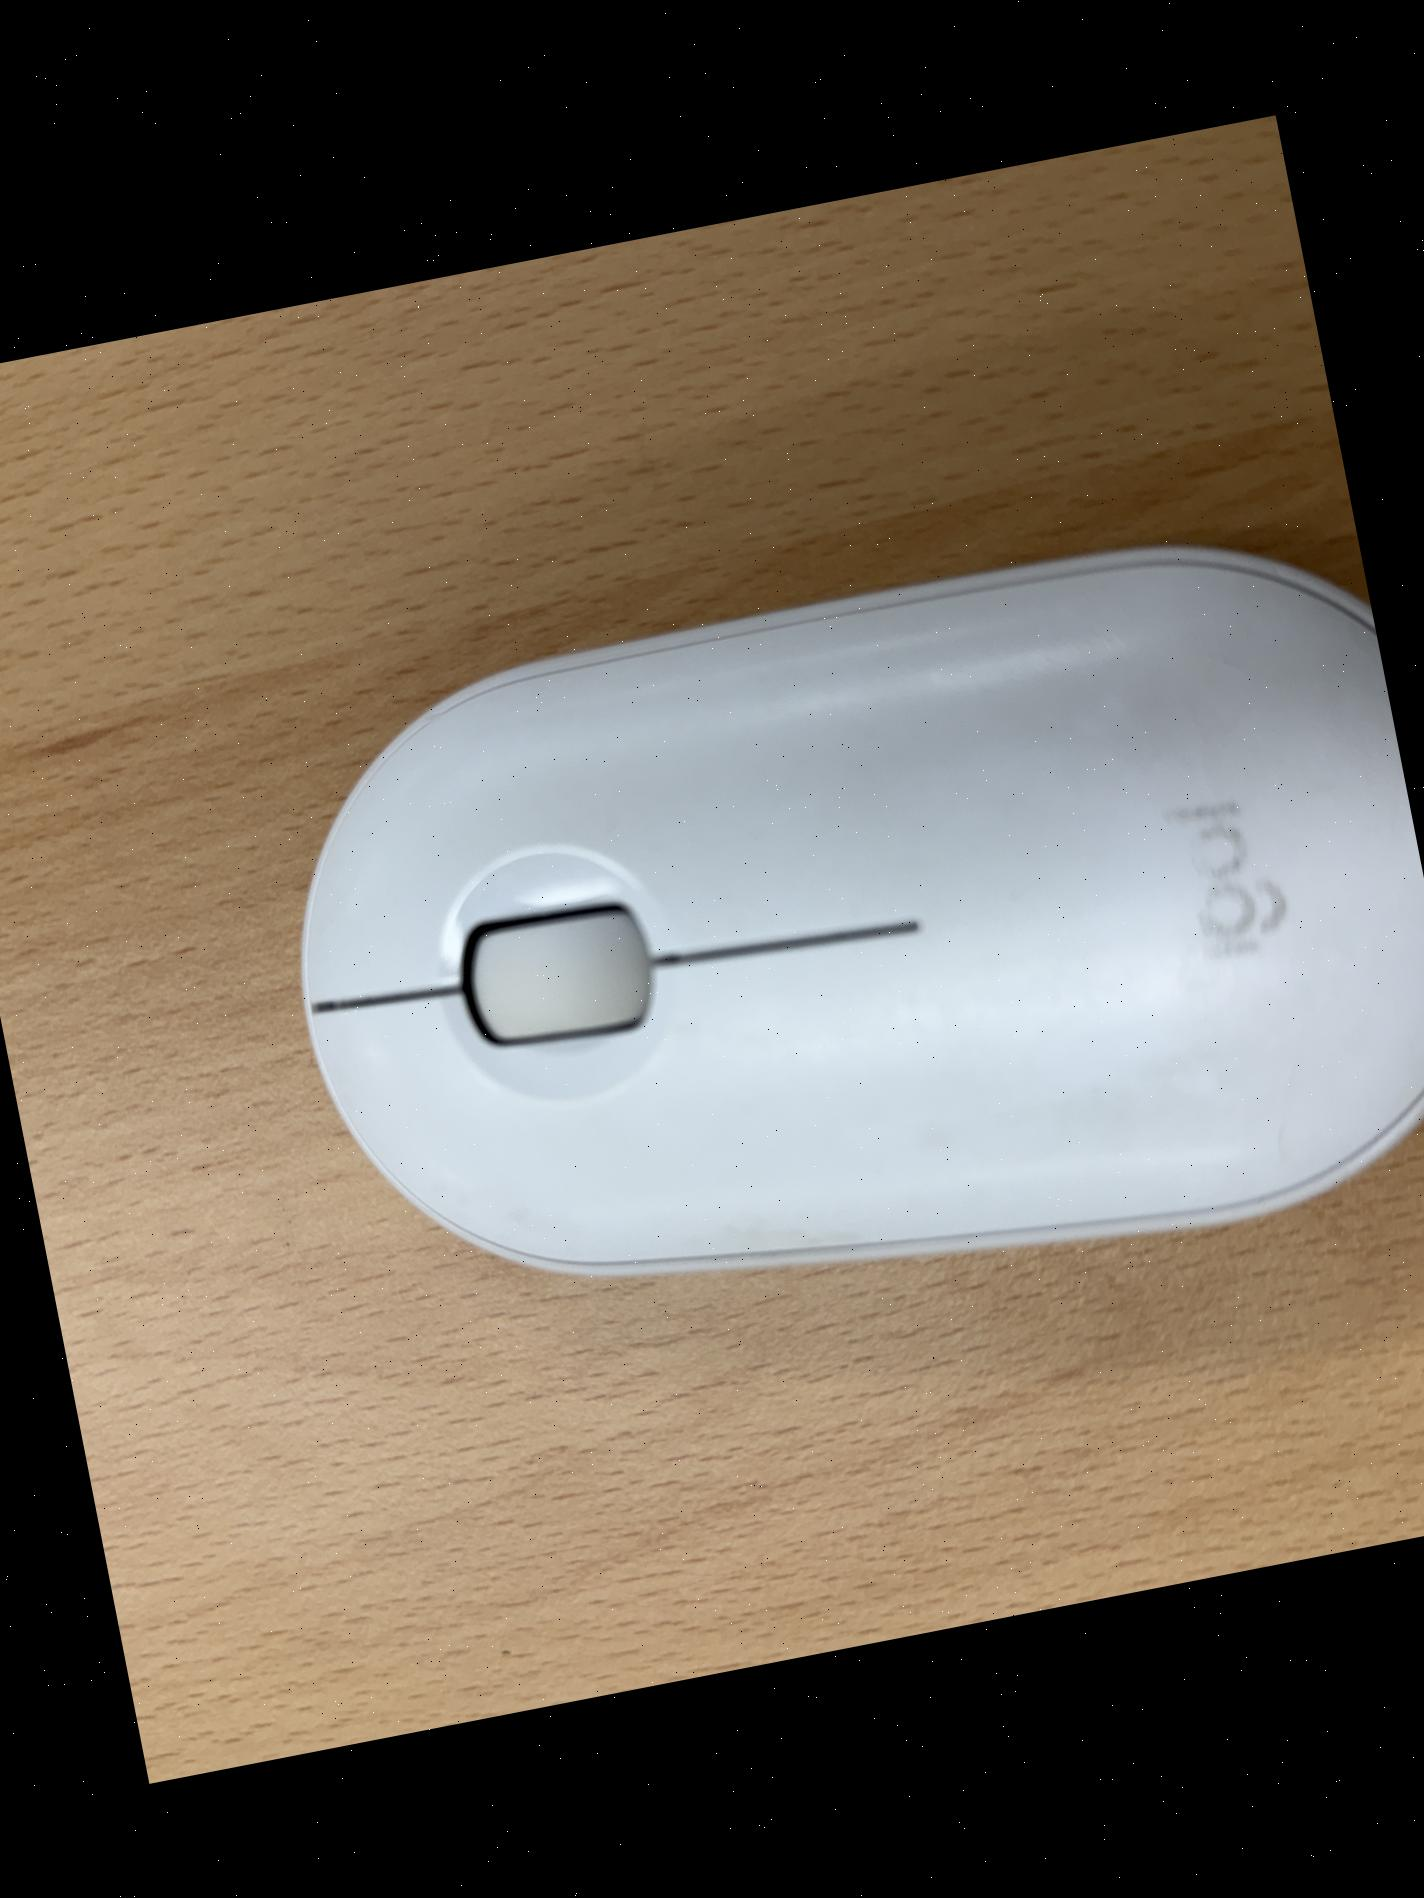front: (239, 488, 1424, 1391)
